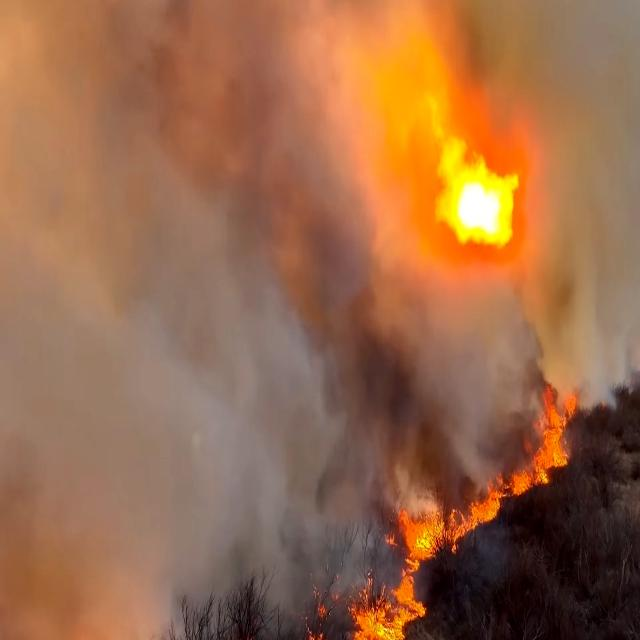fire: (518, 394, 570, 508)
smoke: (0, 0, 377, 516), (540, 0, 639, 313)
